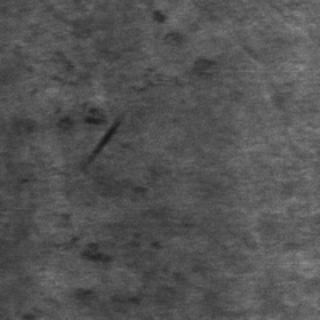rolled pit: (19, 48, 107, 132), (44, 200, 112, 268)
